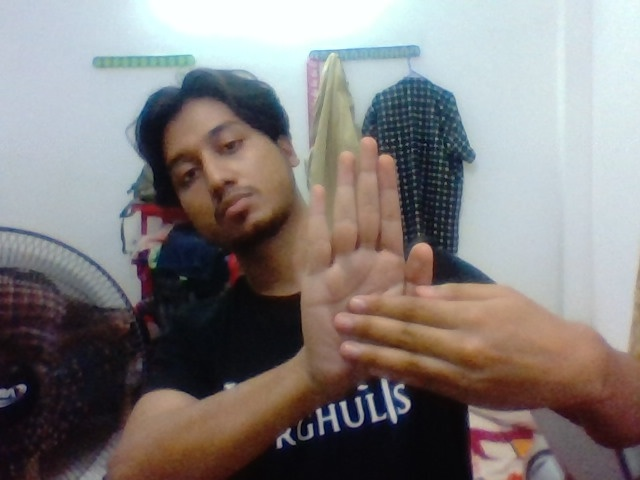H: (289, 124, 554, 427)
